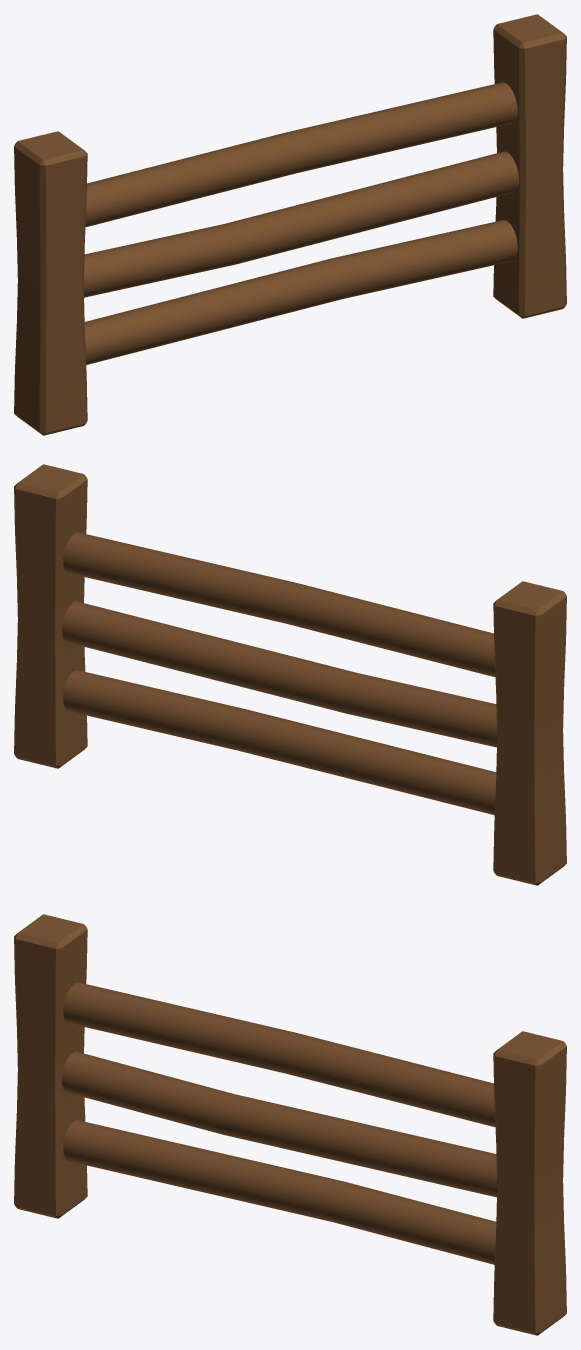
Rendered from Fence_Inner.fbx.
The picture shows the model from 3 angles, top to bottom: view 1: azimuth 30°, elevation 25°; view 2: azimuth 150°, elevation 25°; view 3: azimuth 330°, elevation 25°; orthographic projection.
Parts seen in each view (by area): view 1: Fence_inner.001; view 2: Fence_inner.001; view 3: Fence_inner.001.
Part boxes in pixels (bbox=[...]): Fence_inner.001: bbox=[14, 14, 566, 435]; Fence_inner.001: bbox=[14, 464, 566, 885]; Fence_inner.001: bbox=[14, 914, 566, 1335].
Size of the model in its own units: 400 by 200 by 39.91.
